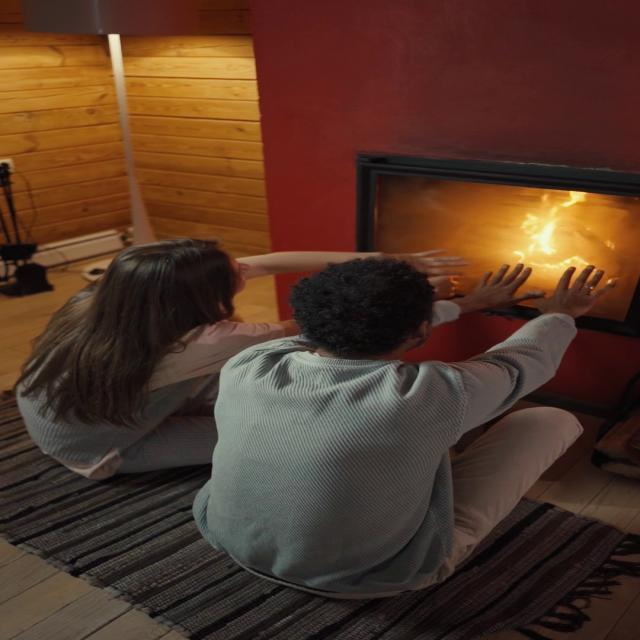Fire: (484, 185, 594, 274)
